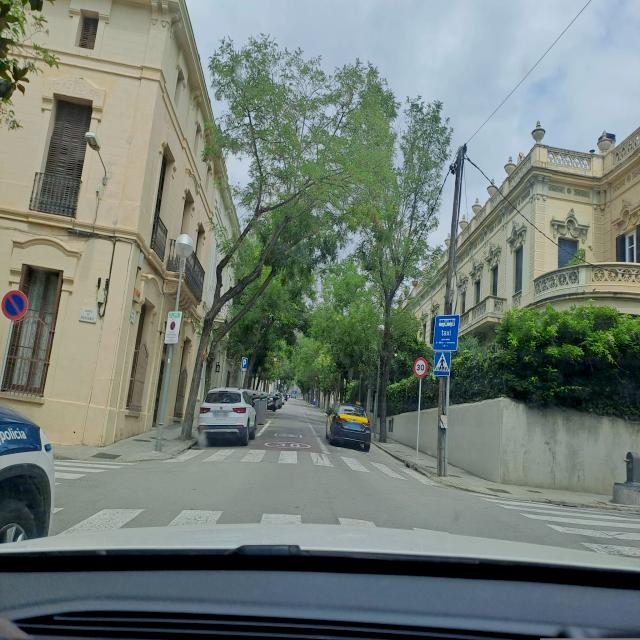car: (1, 380, 56, 550), (198, 386, 257, 446), (326, 403, 372, 452), (265, 393, 278, 411), (272, 392, 283, 408), (280, 392, 286, 404)
